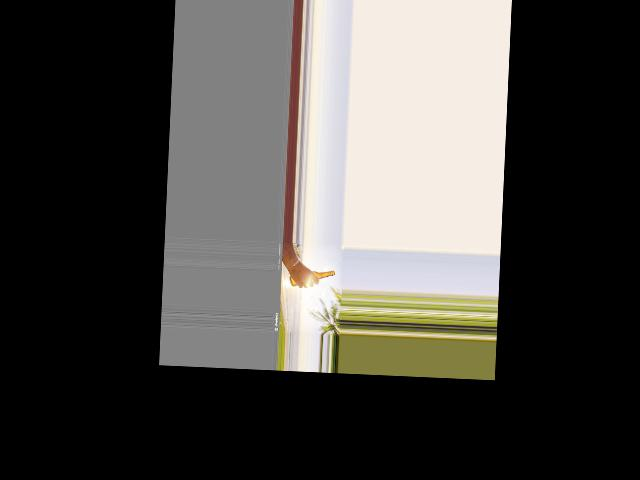beer: (288, 268, 334, 287)
